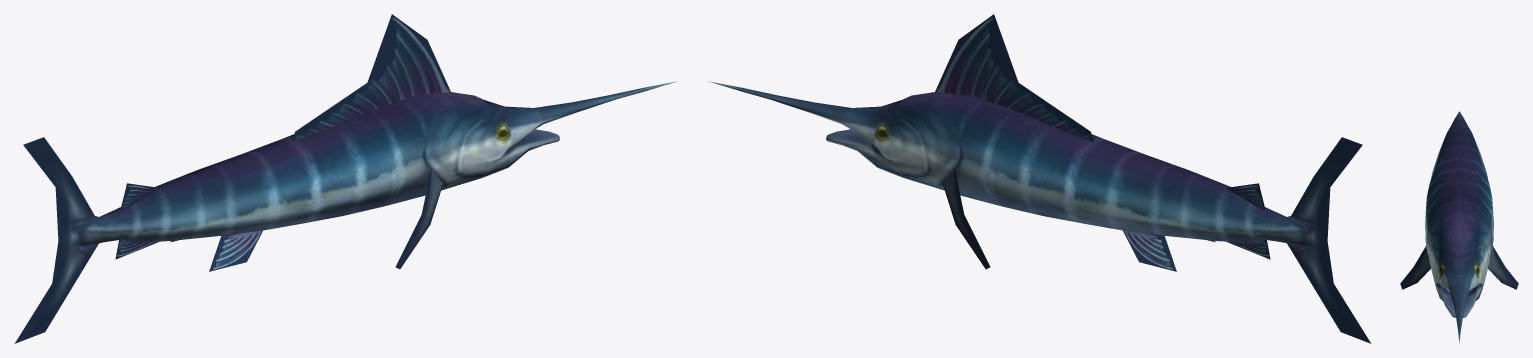
File: pir_m_gam_fsh_lgComMarlin.fbx
The picture shows the model from 3 angles, left to right: view 1: azimuth 30°, elevation 25°; view 2: azimuth 150°, elevation 25°; view 3: azimuth 270°, elevation 25°; orthographic projection. The views are drawn at different scales.
Parts seen in each view (by area): view 1: body, finTop_front, finTail, finBottom_backR, finBottom_frontR, finTop_back; view 2: body, finTop_front, finTail, finBottom_backL, finBottom_frontL, finTop_back; view 3: body, finBottom_frontR, finBottom_frontL.
Part boxes in pixels (bbox=[...]): body: bbox=[77, 81, 677, 246]; finTop_front: bbox=[292, 14, 450, 142]; finTail: bbox=[14, 137, 98, 343]; finBottom_backR: bbox=[209, 230, 262, 271]; finBottom_frontR: bbox=[395, 169, 443, 269]; finTop_back: bbox=[120, 183, 159, 210]; body: bbox=[708, 81, 1308, 246]; finTop_front: bbox=[935, 14, 1093, 142]; finTail: bbox=[1287, 137, 1371, 343]; finBottom_backL: bbox=[1123, 230, 1176, 271]; finBottom_frontL: bbox=[942, 169, 990, 269]; finTop_back: bbox=[1226, 183, 1265, 210]; body: bbox=[1425, 111, 1493, 343]; finBottom_frontR: bbox=[1400, 246, 1430, 289]; finBottom_frontL: bbox=[1488, 246, 1518, 289].
Size of the model in its own units: 1268 by 434 by 247.
Materials: 1 (1 with a texture image).
